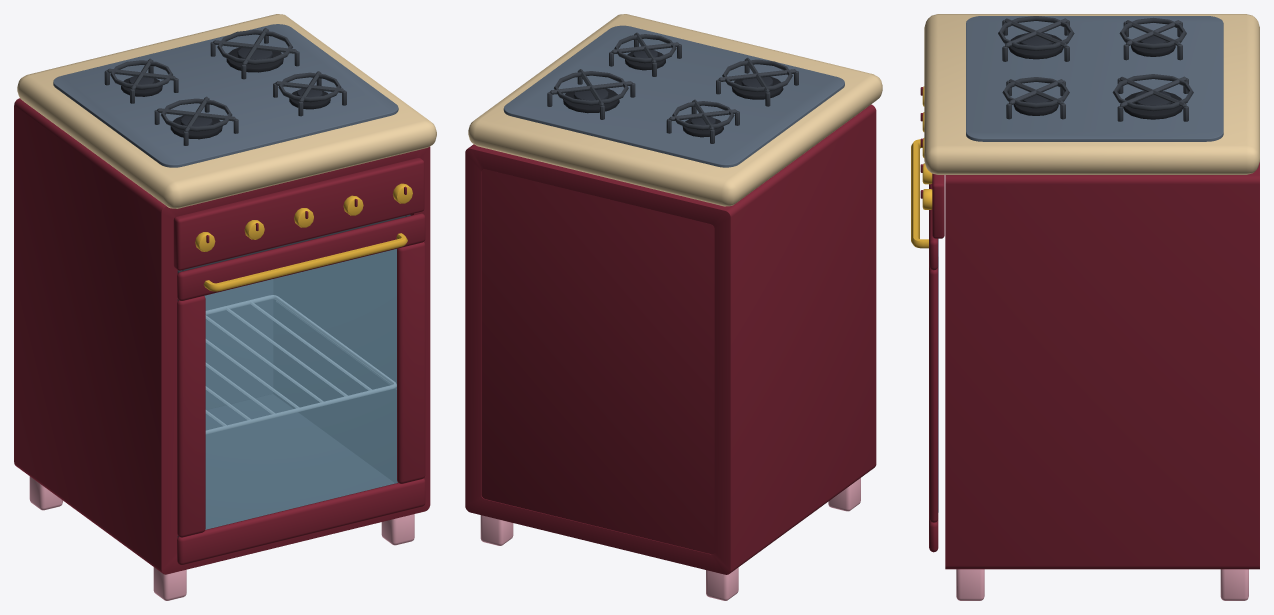
Rendered from fogao_modulo_classica_vinho.glb.
The picture shows the model from 3 angles, left to right: view 1: azimuth 30°, elevation 25°; view 2: azimuth 150°, elevation 25°; view 3: azimuth 270°, elevation 25°; orthographic projection. The views are drawn at different scales.
Parts seen in each view (by area): view 1: fogao_modulo_classica_vinho, porta_forno; view 2: fogao_modulo_classica_vinho; view 3: fogao_modulo_classica_vinho, porta_forno.
Boxes of the visible parts, x1,y1,x2,y2 form: fogao_modulo_classica_vinho: [14, 14, 436, 600]; porta_forno: [177, 213, 425, 564]; fogao_modulo_classica_vinho: [465, 14, 882, 600]; fogao_modulo_classica_vinho: [920, 14, 1259, 600]; porta_forno: [911, 139, 938, 552].
Size of the model in its own units: 0.598 by 0.939 by 0.623.
Materials: 2 (1 with a texture image).
